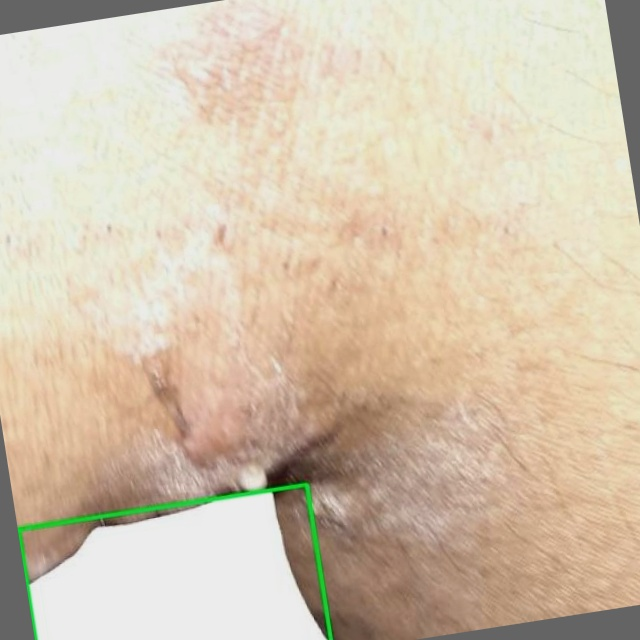Contact Dermatitis: (18, 484, 331, 639)
